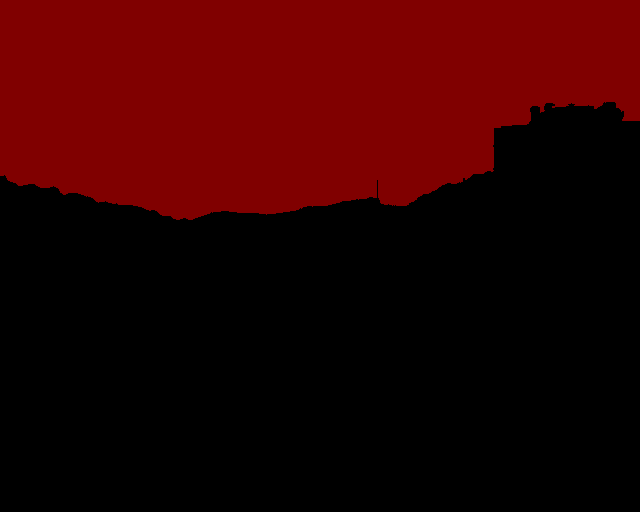Sky: (1, 1, 639, 220)
